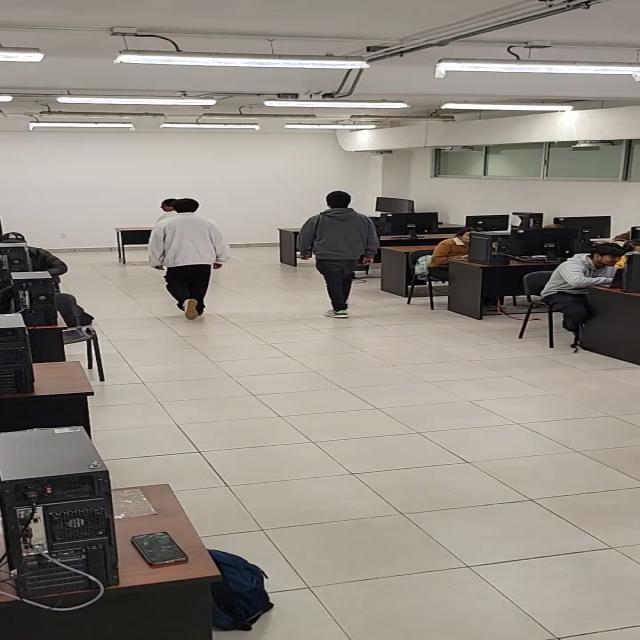Persona: (296, 191, 381, 319), (148, 198, 232, 321), (155, 197, 181, 230)
